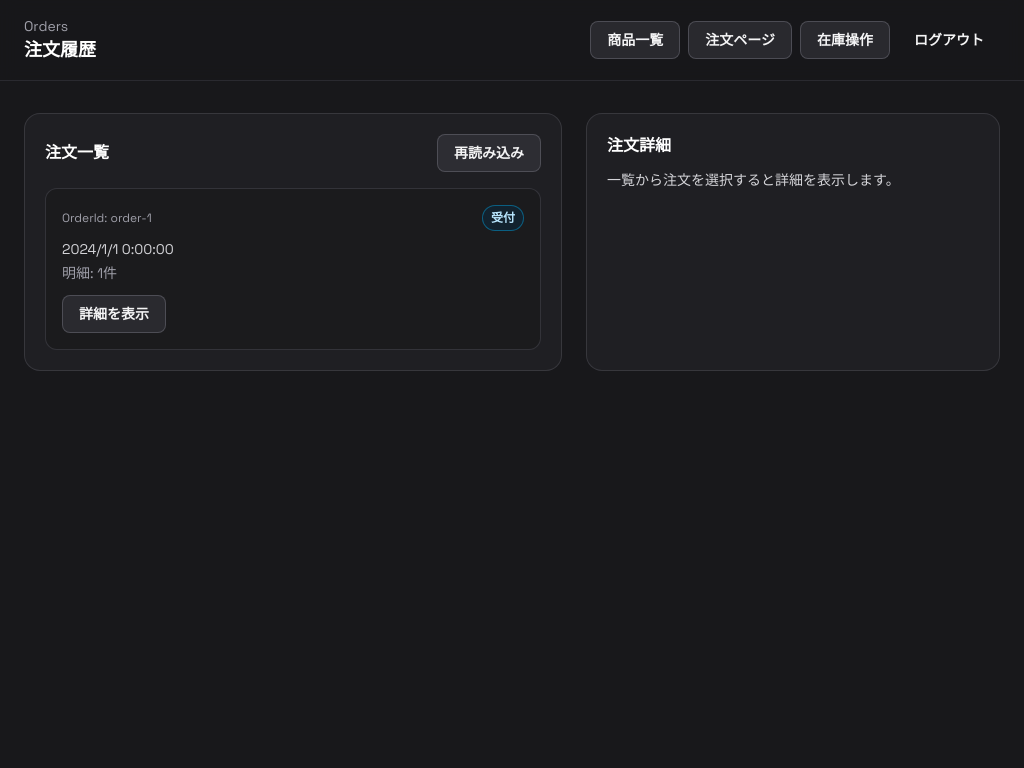
OrdersPage - changeOrderStatus › ステータス変更成功後に selectedOrder が更新されてアクションメッセージが表示される
The image size is (1024, 768).
Click the button "詳細を表示". click: [114, 314]
box: [62,295,166,333]
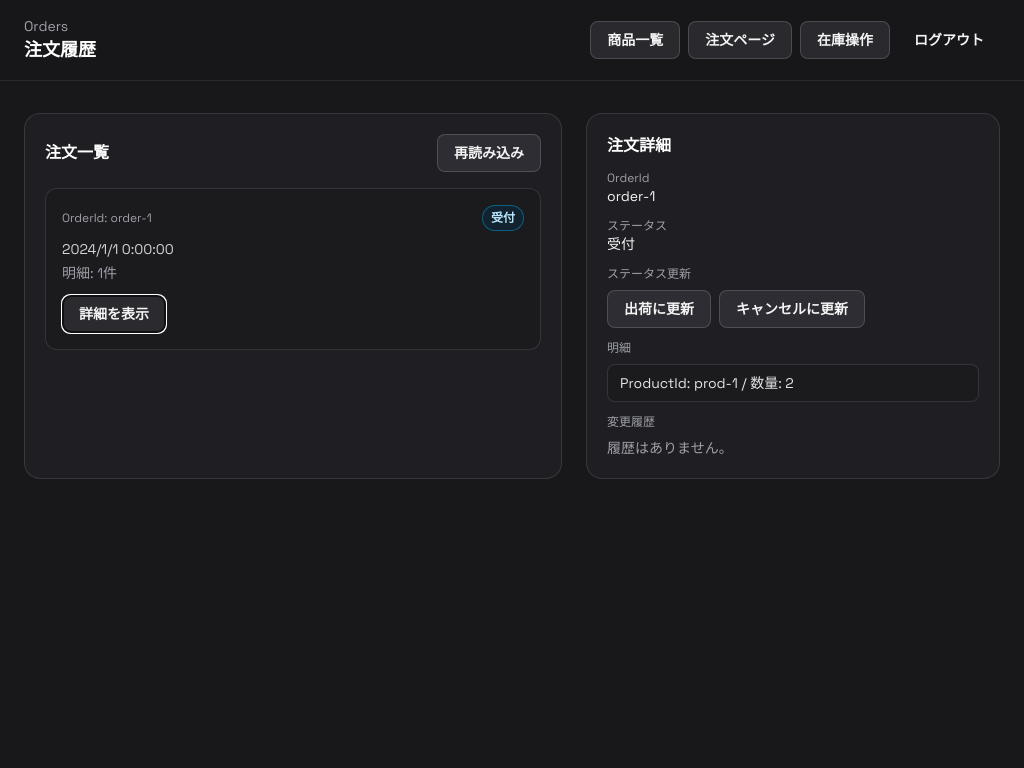
Expected: the text "ステータス更新" is shown, [607,266,691,282]
Note: ステータス変更ボタンをクリック（accepted → shipped）
Click the button "出荷に更新". click: [659, 309]
box: [607,290,711,328]
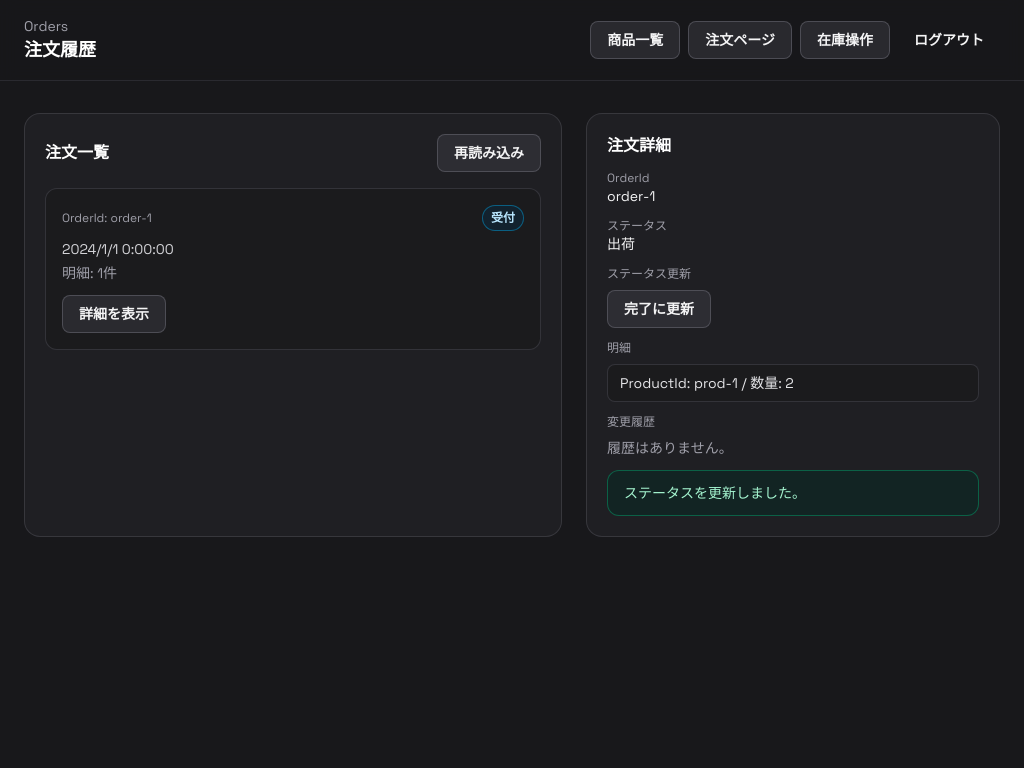
Expected: the text "ステータスを更新しました。" is shown, [607,470,979,516]
